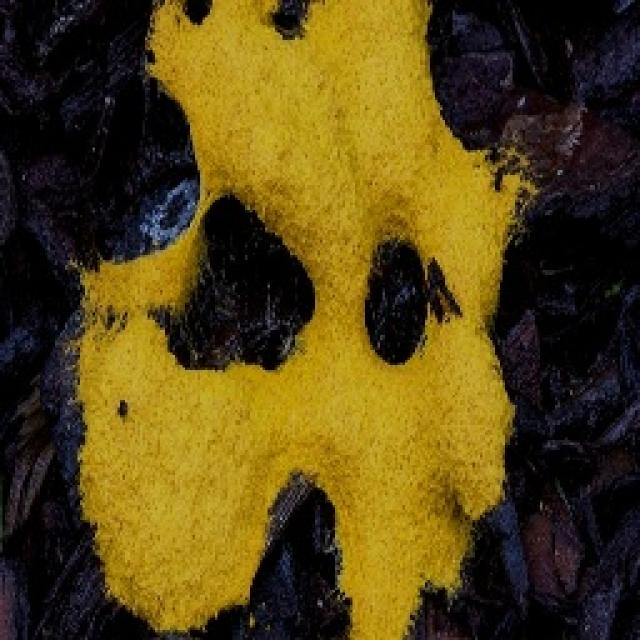Dog_vomit_slime_mold: (24, 7, 584, 640)
